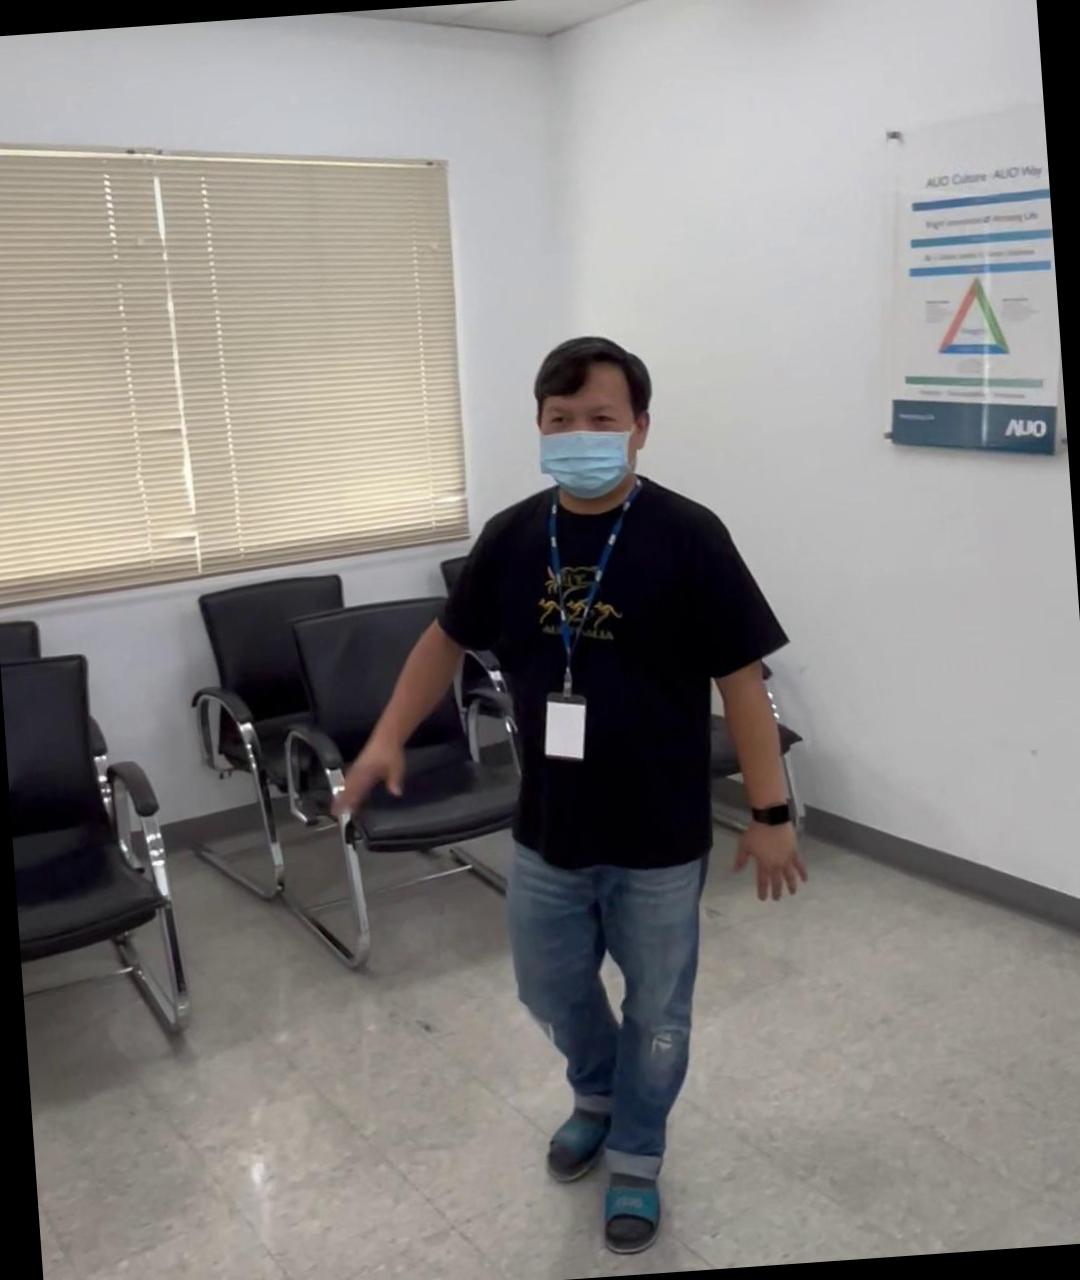No-gloves: (326, 720, 415, 829), (725, 809, 812, 907)
